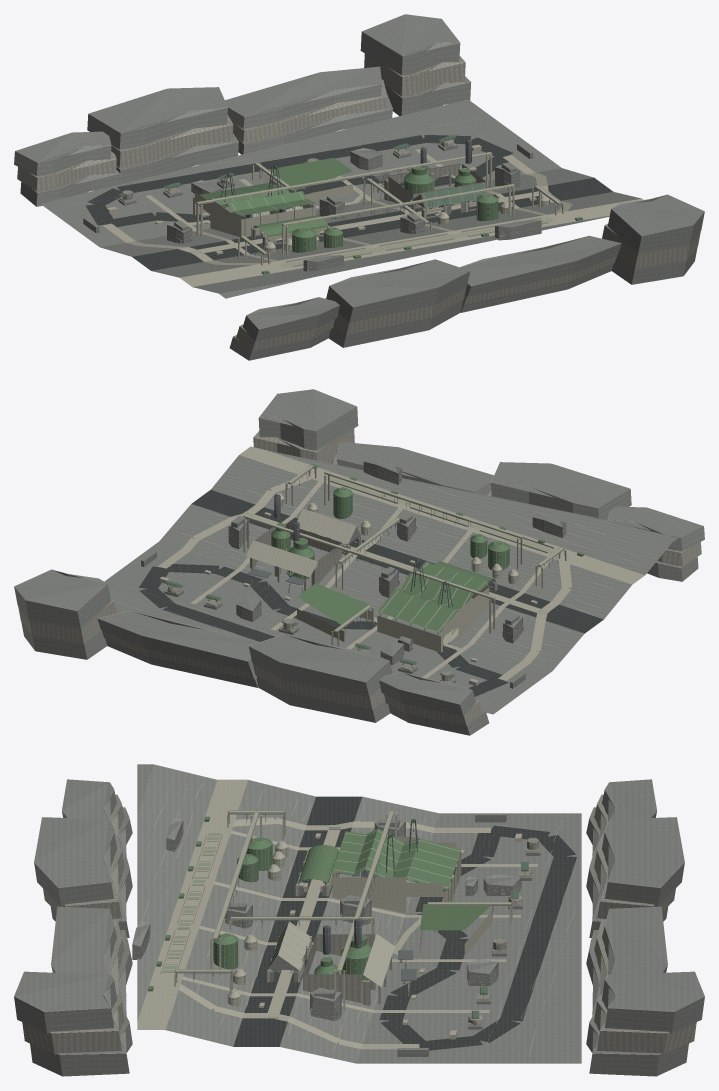
The model's file is gravemill-foundry-r5.glb.
3 renders of one model, top to bottom at view 1: azimuth 30°, elevation 25°; view 2: azimuth 150°, elevation 25°; view 3: azimuth 270°, elevation 25°, orthographic. The views are drawn at different scales.
Parts seen in each view (by area): view 1: Gravemill / mineral, Gravemill / soot, Gravemill / ore, Gravemill / cooling-floor, Gravemill / copper, Gravemill / chalk, Gravemill / brass, kit.new-hero.GM / soot.00; view 2: Gravemill / mineral, Gravemill / soot, Gravemill / copper, Gravemill / ore, Gravemill / cooling-floor, Gravemill / chalk, kit.new-hero.GM / soot.00, kit.new-hero.G4 / ribbed.00, Gravemill / brass; view 3: Gravemill / mineral, Gravemill / soot, Gravemill / cooling-floor, Gravemill / copper, Gravemill / ore, Gravemill / chalk, Gravemill / brass, kit.new-hero.GM / soot.00, kit.new-hero.G4 / ribbed.00, kit.new-hero.GM / brass.00, kit.new-hero.GM / mineral.00, kit.new-hero.GM / ore.00.
Boxes of the visible parts, box(x1,y1,x2,y2) form: Gravemill / mineral: box(14, 14, 704, 360); Gravemill / soot: box(103, 142, 643, 286); Gravemill / ore: box(17, 53, 700, 350); Gravemill / cooling-floor: box(86, 135, 613, 270); Gravemill / copper: box(125, 145, 582, 274); Gravemill / chalk: box(38, 19, 704, 336); Gravemill / brass: box(114, 150, 549, 253); kit.new-hero.GM / soot.00: box(221, 139, 562, 260); Gravemill / mineral: box(14, 389, 704, 735); Gravemill / soot: box(158, 446, 644, 685); Gravemill / copper: box(167, 464, 583, 680); Gravemill / ore: box(18, 428, 701, 725); Gravemill / cooling-floor: box(139, 490, 603, 696); Gravemill / chalk: box(14, 394, 680, 711); kit.new-hero.GM / soot.00: box(274, 467, 564, 637); kit.new-hero.G4 / ribbed.00: box(247, 467, 563, 632); Gravemill / brass: box(170, 468, 563, 681); Gravemill / mineral: box(14, 764, 704, 1076); Gravemill / soot: box(137, 779, 539, 1049); Gravemill / cooling-floor: box(233, 796, 576, 1050); Gravemill / copper: box(148, 810, 531, 1000); Gravemill / ore: box(22, 794, 696, 1054); Gravemill / chalk: box(44, 780, 674, 1056); Gravemill / brass: box(178, 812, 529, 1043); kit.new-hero.GM / soot.00: box(175, 814, 511, 981); kit.new-hero.G4 / ribbed.00: box(176, 814, 510, 980); kit.new-hero.GM / brass.00: box(175, 811, 536, 1018); kit.new-hero.GM / mineral.00: box(405, 845, 540, 1029); kit.new-hero.GM / ore.00: box(468, 838, 538, 1025).
Bounding box in the file's own units: 395 × 58.5 × 448.
11 materials, 10 textured.
